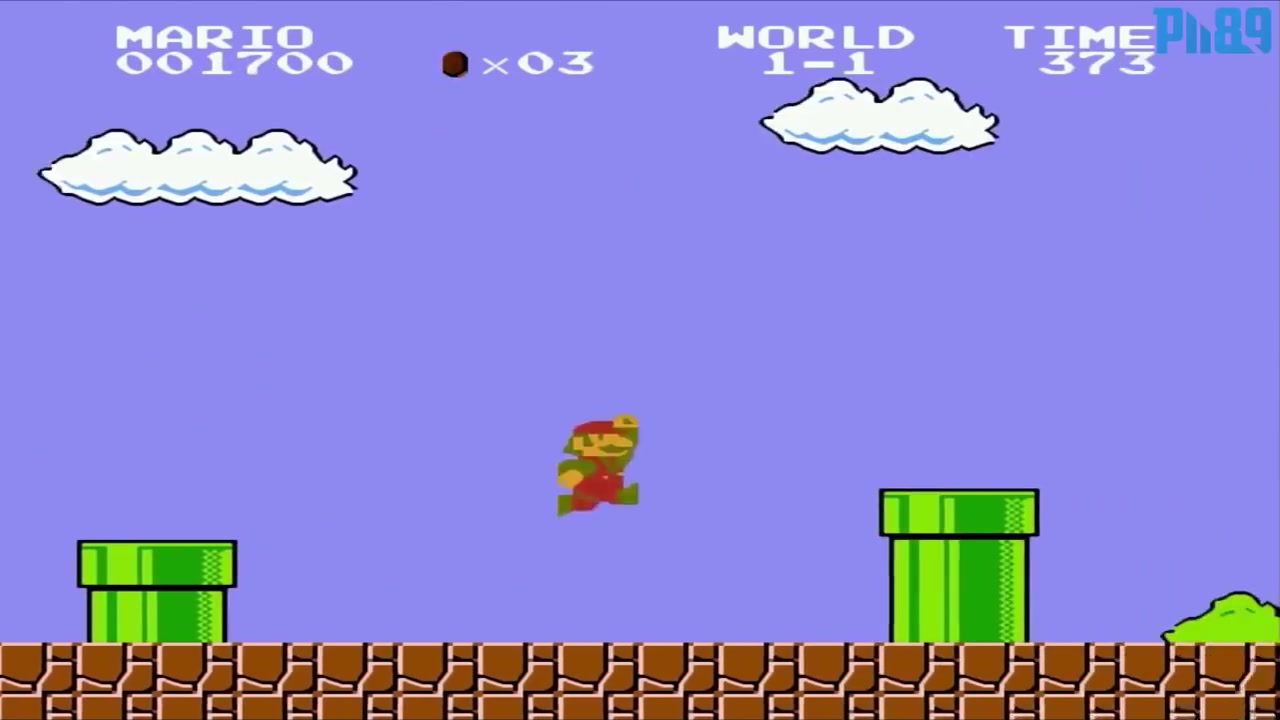mario: (542, 409, 645, 522)
